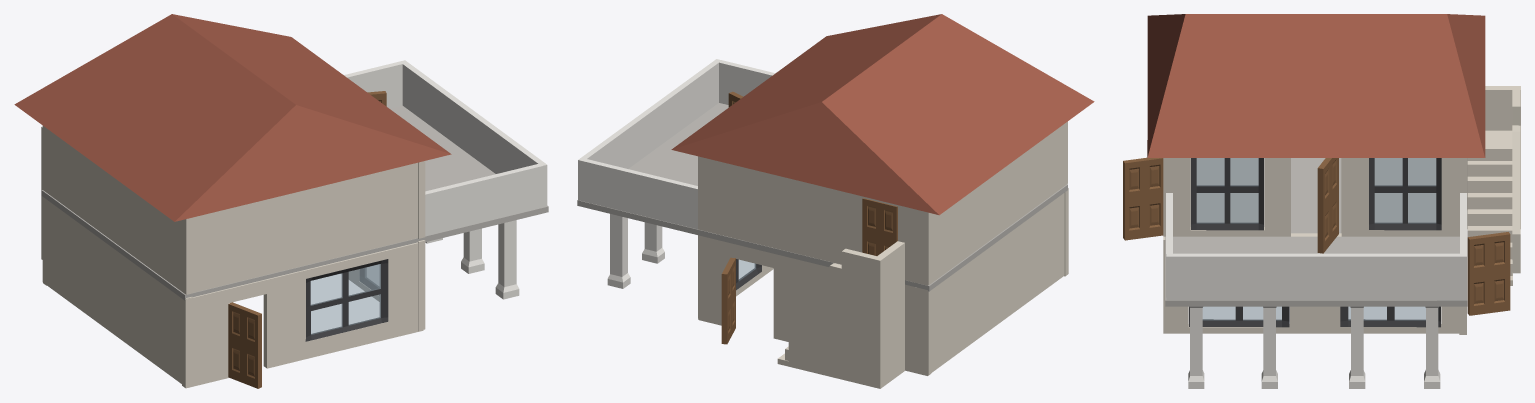
Rendered from casa.glb.
The picture shows the model from 3 angles, left to right: view 1: azimuth 30°, elevation 25°; view 2: azimuth 150°, elevation 25°; view 3: azimuth 270°, elevation 25°; orthographic projection. The views are drawn at different scales.
Parts seen in each view (by area): view 1: techo, planta_alta, planta_baja, baranda_terraza, losa_entrepiso, vidrio_frente, puerta_principal, marco_frente, columna_3, columna_1; view 2: techo, planta_alta, planta_baja, baranda_terraza, muro_trasero, losa_entrepiso, muro_lateral, puerta_alta, columna_2, puerta_trasera, columna_4; view 3: techo, losa_entrepiso, baranda_terraza, planta_alta, anexo, planta_baja, puerta_trasera, vidrio_alto_1, vidrio_alto_2, puerta_principal, marco_alto_2, marco_alto_1 (+11 smaller).
Boxes of the visible parts, bbox=[...] form: techo: bbox=[14, 14, 451, 221]; planta_alta: bbox=[42, 126, 425, 294]; planta_baja: bbox=[42, 197, 425, 388]; baranda_terraza: bbox=[344, 60, 547, 235]; losa_entrepiso: bbox=[41, 105, 548, 300]; vidrio_frente: bbox=[310, 264, 380, 334]; puerta_principal: bbox=[228, 302, 261, 388]; marco_frente: bbox=[305, 259, 388, 341]; columna_3: bbox=[495, 220, 519, 299]; columna_1: bbox=[461, 228, 484, 273]; techo: bbox=[671, 14, 1094, 215]; planta_alta: bbox=[698, 121, 1067, 285]; planta_baja: bbox=[698, 188, 1068, 375]; baranda_terraza: bbox=[578, 59, 775, 229]; muro_trasero: bbox=[788, 248, 876, 385]; losa_entrepiso: bbox=[577, 103, 1067, 291]; muro_lateral: bbox=[873, 241, 904, 388]; puerta_alta: bbox=[862, 198, 897, 255]; columna_2: bbox=[607, 214, 630, 288]; puerta_trasera: bbox=[721, 257, 735, 344]; columna_4: bbox=[642, 222, 664, 263]; techo: bbox=[1147, 14, 1485, 157]; losa_entrepiso: bbox=[1165, 158, 1467, 306]; baranda_terraza: bbox=[1166, 193, 1466, 300]; planta_alta: bbox=[1163, 158, 1467, 236]; anexo: bbox=[1467, 130, 1512, 285]; planta_baja: bbox=[1163, 236, 1466, 334]; puerta_trasera: bbox=[1467, 232, 1510, 315]; vidrio_alto_1: bbox=[1374, 158, 1436, 223]; vidrio_alto_2: bbox=[1196, 158, 1258, 223]; puerta_principal: bbox=[1123, 157, 1163, 240]; marco_alto_2: bbox=[1191, 158, 1263, 230]; marco_alto_1: bbox=[1369, 158, 1441, 230].
Size of the model in its own units: 18.34 by 11.51 by 15.67.
